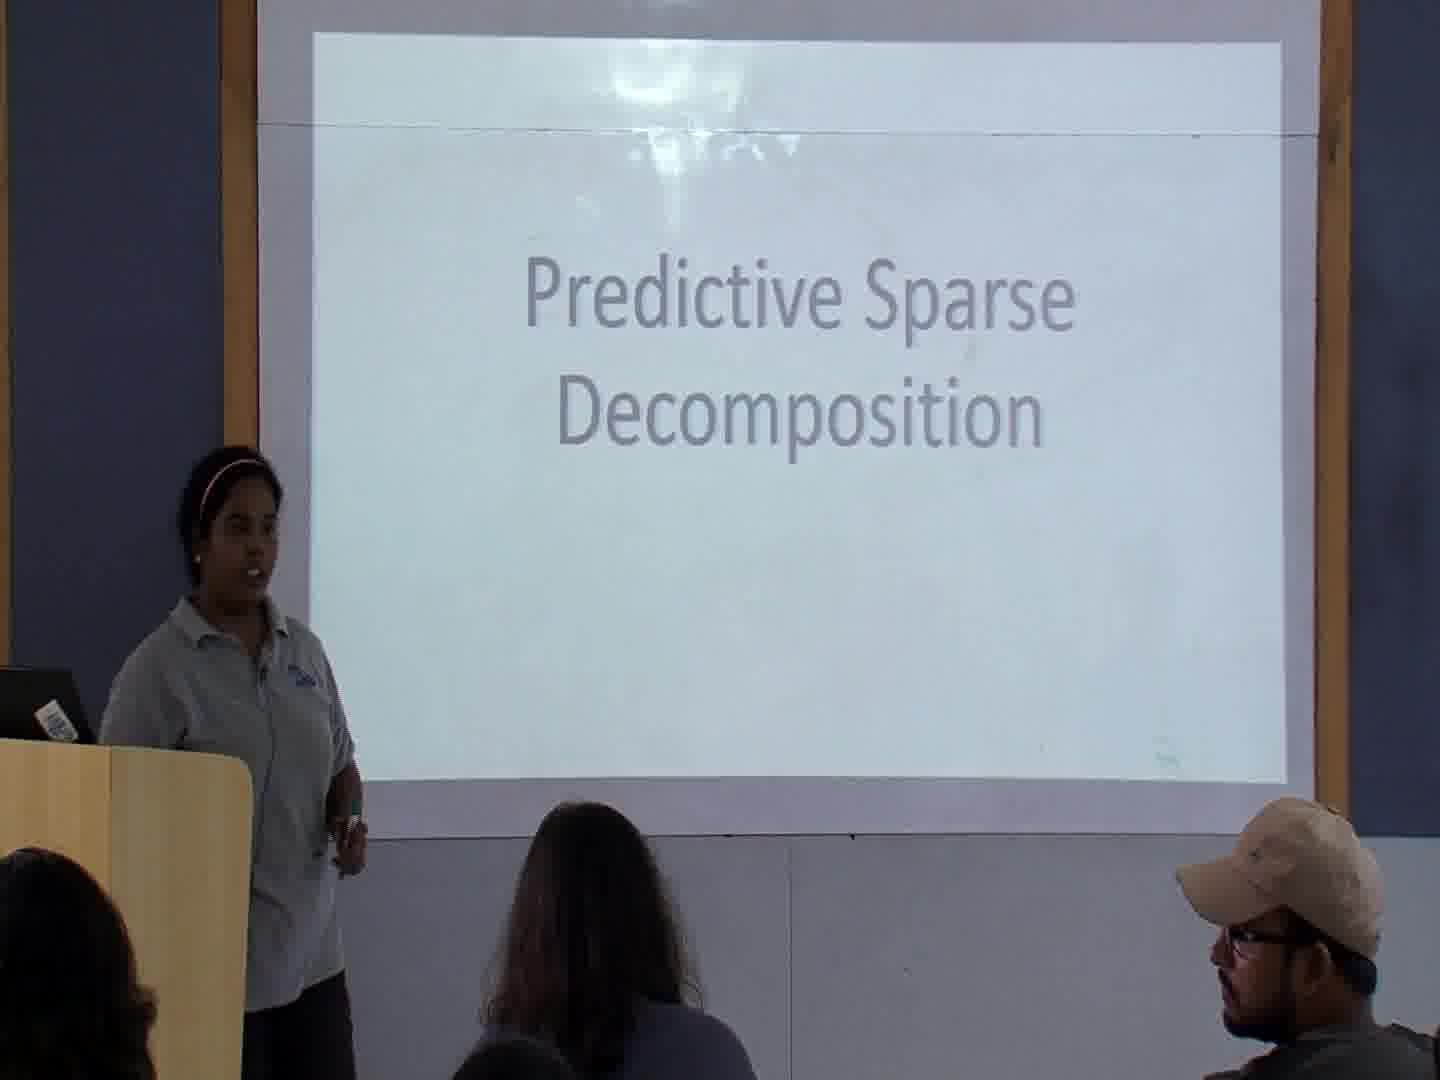slide: (310, 33, 1284, 781)
